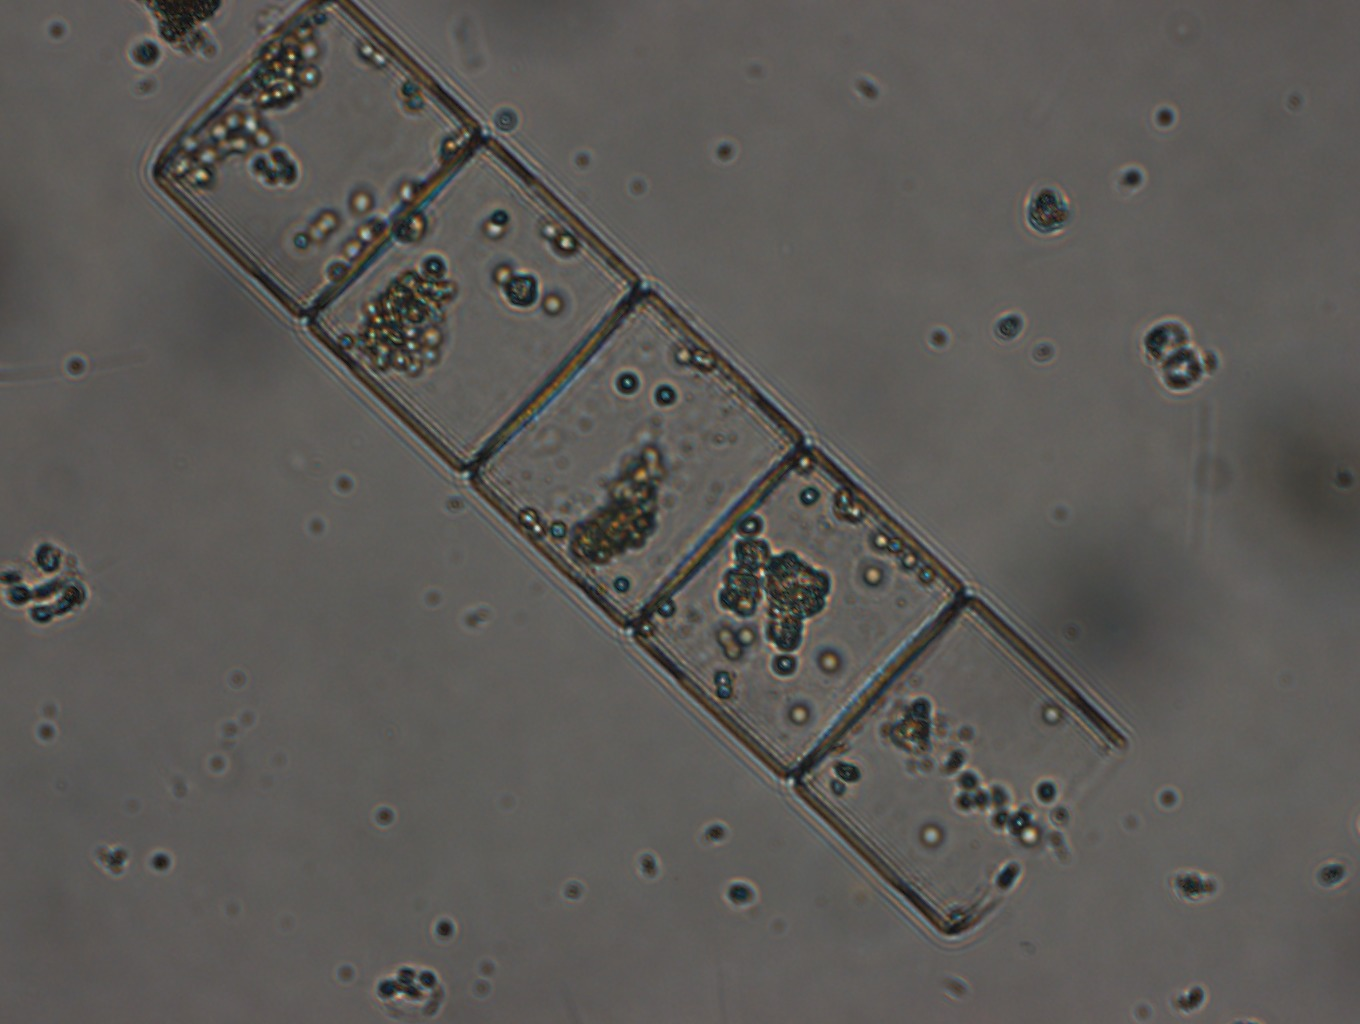guinardia flaccida: (145, 2, 1125, 941)
